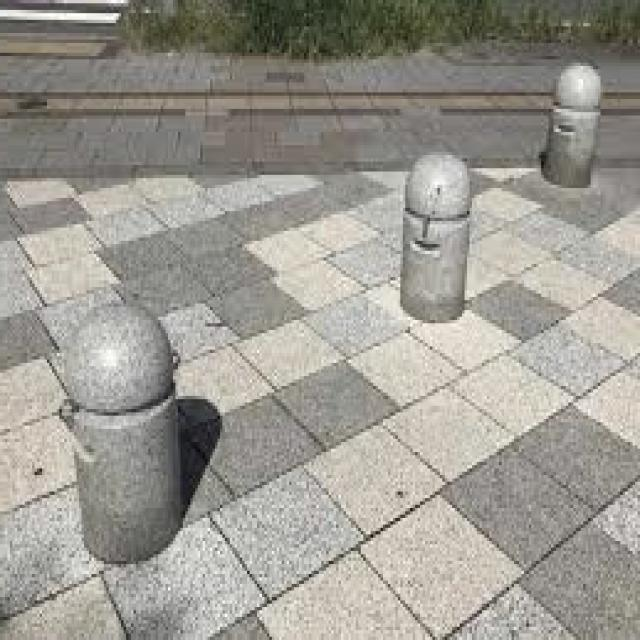bollard: (58, 284, 184, 566), (396, 135, 479, 332), (528, 51, 610, 202)
